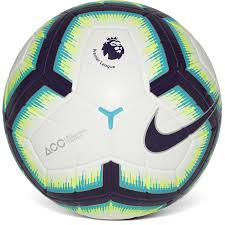football: (2, 1, 225, 222)
